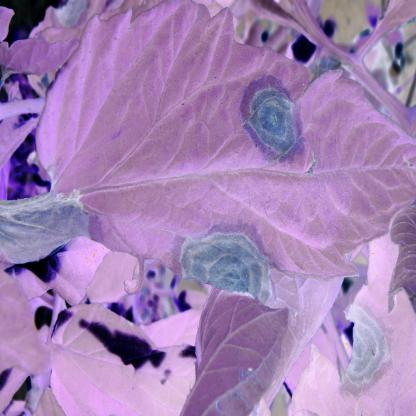Tomato leaf late blight: (4, 7, 411, 308)
